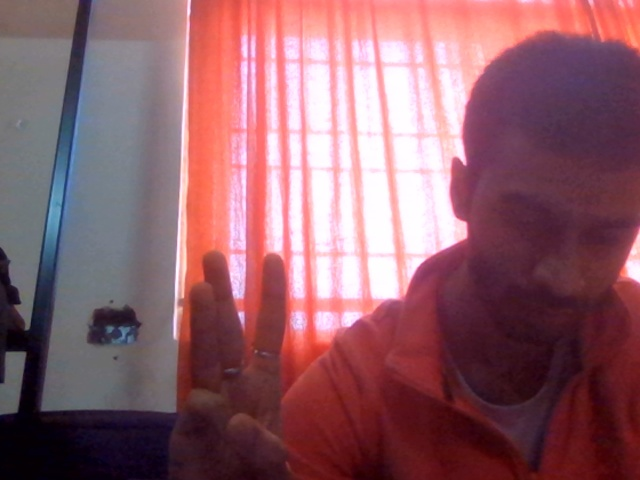W: (164, 210, 372, 480)
